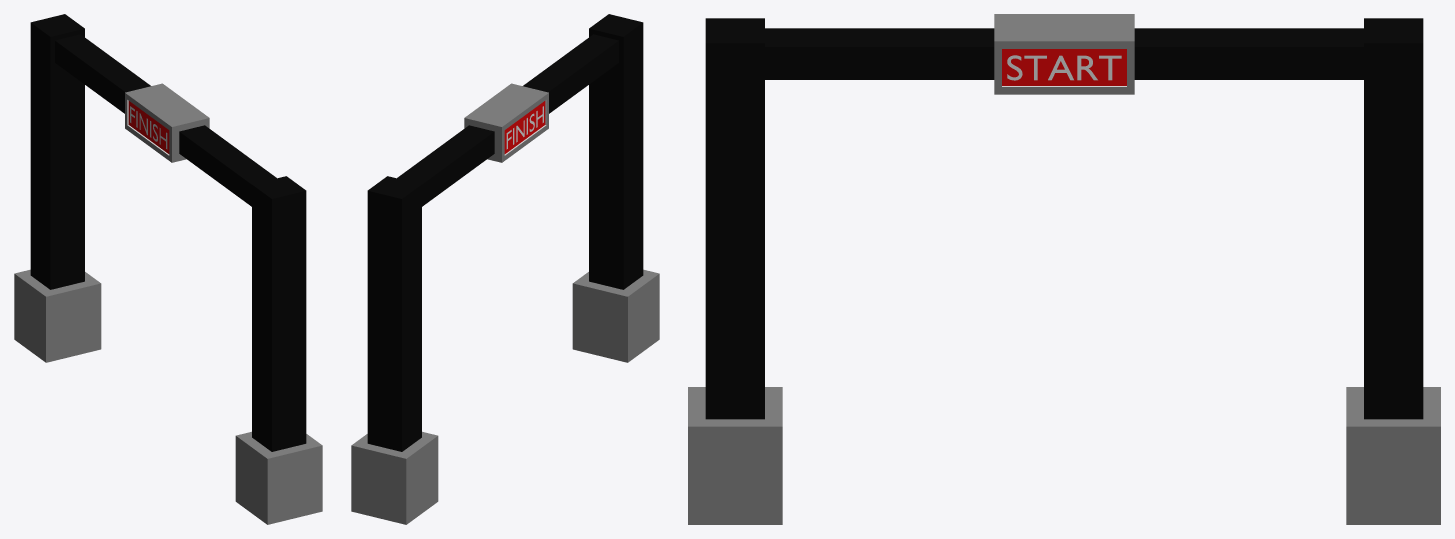
Rendered from Start and finish pole.fbx.
The picture shows the model from 3 angles, left to right: view 1: azimuth 30°, elevation 25°; view 2: azimuth 150°, elevation 25°; view 3: azimuth 270°, elevation 25°; orthographic projection. The views are drawn at different scales.
Visible parts, largest first — view 1: Sign; view 2: Sign; view 3: Sign, start.
Part boxes in pixels (box(x1,y1,x2,y2)): Sign: box(14, 14, 322, 524); Sign: box(351, 14, 659, 524); Sign: box(688, 14, 1440, 524); start: box(1007, 55, 1121, 80).
Size of the model in its own units: 200 by 1112 by 1593.
